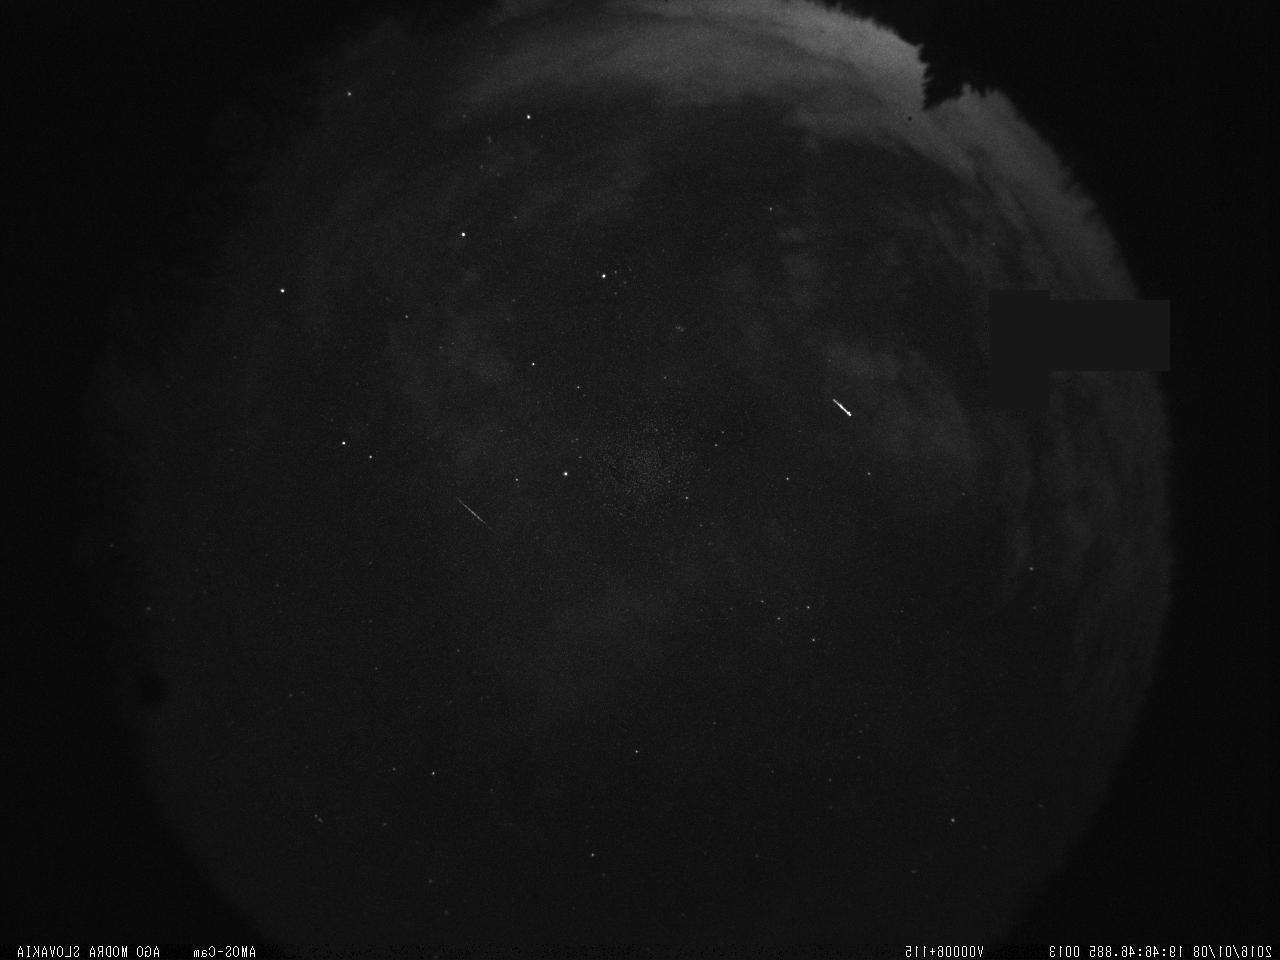meteor: (449, 495, 497, 530)
